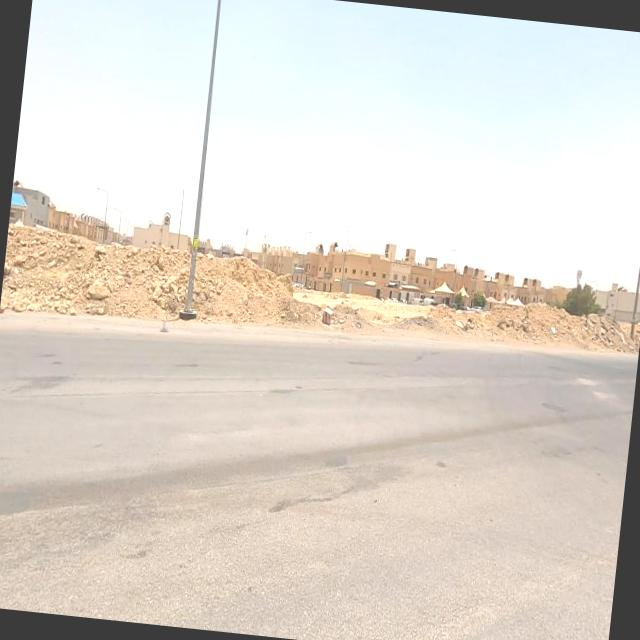debris: (293, 277, 371, 354), (430, 288, 500, 370), (536, 308, 574, 356)
